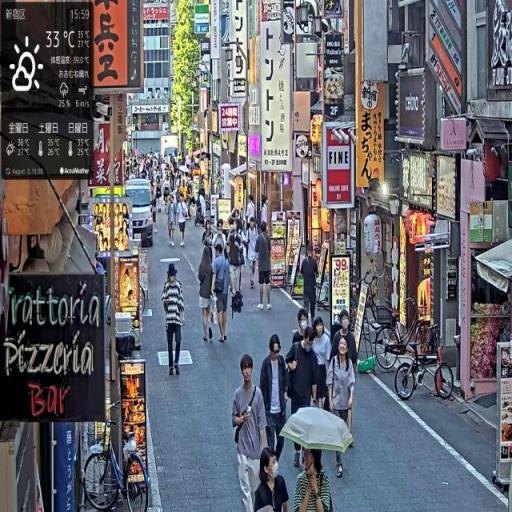person: (284, 317, 324, 468), (232, 354, 270, 512), (327, 336, 358, 481), (259, 333, 290, 464), (163, 263, 187, 379), (211, 242, 235, 347), (296, 449, 332, 512), (311, 317, 333, 417), (256, 450, 291, 512), (301, 246, 321, 334), (255, 220, 274, 312), (199, 243, 216, 344), (246, 216, 260, 294), (178, 194, 190, 247), (167, 194, 178, 247)
